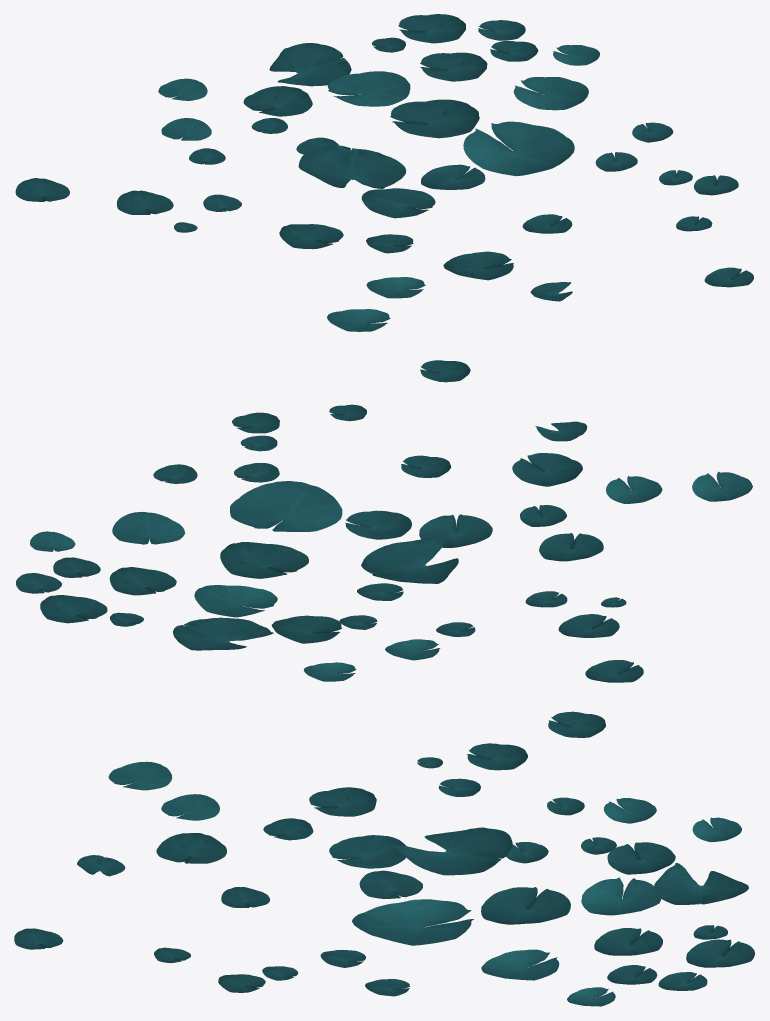
3 views of the same model, one above another, from view 1: azimuth 30°, elevation 25°; view 2: azimuth 150°, elevation 25°; view 3: azimuth 270°, elevation 25° (orthographic). The views are drawn at different scales.
Parts seen in each view (by area): view 1: SM_GF_WaterLily_01_LOD0; view 2: SM_GF_WaterLily_01_LOD0; view 3: SM_GF_WaterLily_01_LOD0.
Boxes of the visible parts, left/top/right/bottom form: SM_GF_WaterLily_01_LOD0: left=15, top=14, right=753, bottom=331; SM_GF_WaterLily_01_LOD0: left=16, top=360, right=752, bottom=682; SM_GF_WaterLily_01_LOD0: left=14, top=711, right=754, bottom=1006.
Size of the model in its own units: 4.97 by 0.0998 by 5.28.
1 material, 1 textured.
